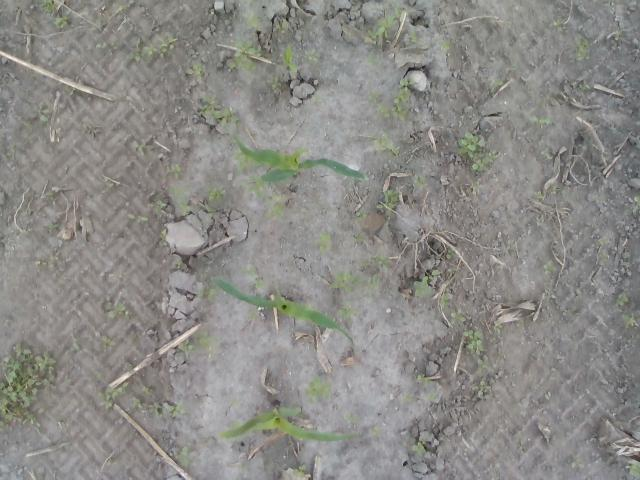Maize: (209, 276, 355, 348), (234, 134, 368, 182), (218, 402, 350, 444)
Weeds: (0, 342, 58, 428), (328, 254, 394, 294), (364, 0, 404, 65), (368, 79, 417, 120), (457, 128, 498, 172), (242, 180, 286, 219), (195, 94, 242, 130), (130, 34, 177, 62), (226, 34, 258, 74), (40, 0, 73, 32), (126, 399, 186, 416), (98, 381, 128, 410), (412, 267, 439, 299), (180, 331, 217, 354), (302, 376, 332, 401), (372, 132, 400, 158), (370, 191, 400, 214), (240, 266, 270, 288), (462, 328, 488, 353), (232, 149, 254, 176), (173, 185, 192, 215), (280, 46, 300, 74), (574, 32, 591, 64), (104, 302, 130, 320), (207, 187, 224, 213), (528, 114, 558, 128), (334, 300, 353, 320), (150, 192, 167, 214), (36, 103, 50, 129), (185, 62, 205, 80), (176, 444, 192, 466), (318, 232, 335, 252), (34, 255, 60, 267), (206, 286, 223, 304), (543, 255, 559, 274), (274, 17, 290, 34), (623, 312, 640, 328), (128, 212, 150, 224), (166, 162, 182, 178), (411, 440, 426, 456), (95, 40, 119, 50), (2, 144, 17, 160), (416, 372, 433, 386), (244, 14, 260, 28), (304, 48, 320, 62), (625, 464, 640, 478), (465, 178, 479, 192), (616, 292, 630, 306), (478, 378, 492, 392), (246, 306, 258, 322), (294, 463, 307, 477), (70, 336, 81, 352), (354, 207, 370, 218), (450, 311, 467, 321), (476, 355, 489, 368), (414, 176, 428, 188), (352, 232, 368, 242), (116, 2, 129, 14), (407, 30, 418, 44), (543, 144, 552, 160), (270, 75, 281, 88), (46, 222, 65, 229), (576, 84, 592, 92), (633, 191, 640, 209), (514, 319, 528, 328), (533, 190, 545, 200), (600, 250, 608, 264), (424, 393, 438, 401), (135, 144, 146, 154), (440, 39, 450, 50), (494, 325, 504, 336), (440, 294, 449, 306), (552, 19, 562, 29), (490, 80, 504, 87), (160, 228, 167, 241), (446, 250, 456, 259), (311, 96, 322, 104), (175, 261, 184, 270), (616, 28, 624, 38), (344, 413, 353, 421), (372, 426, 381, 434)
